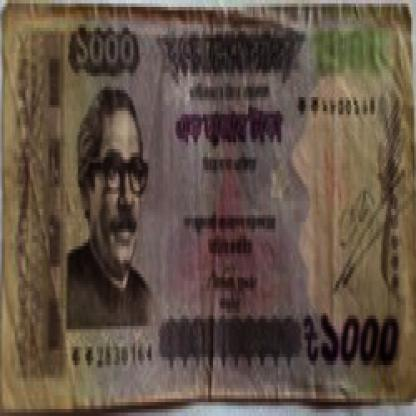One Thousand taka: (301, 308, 401, 371), (72, 28, 140, 73)
